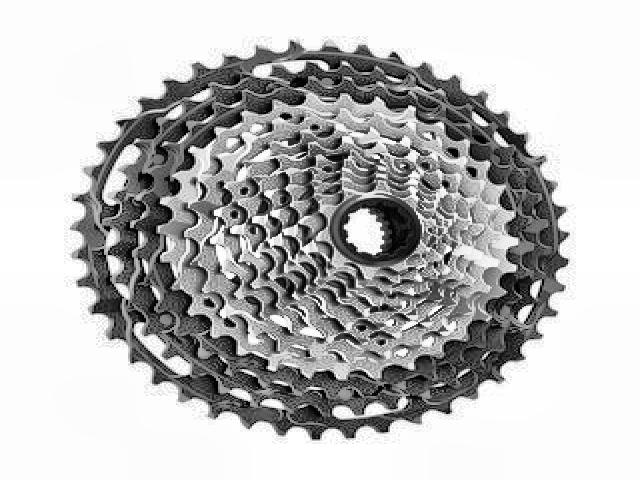cassette: (63, 37, 574, 441)
